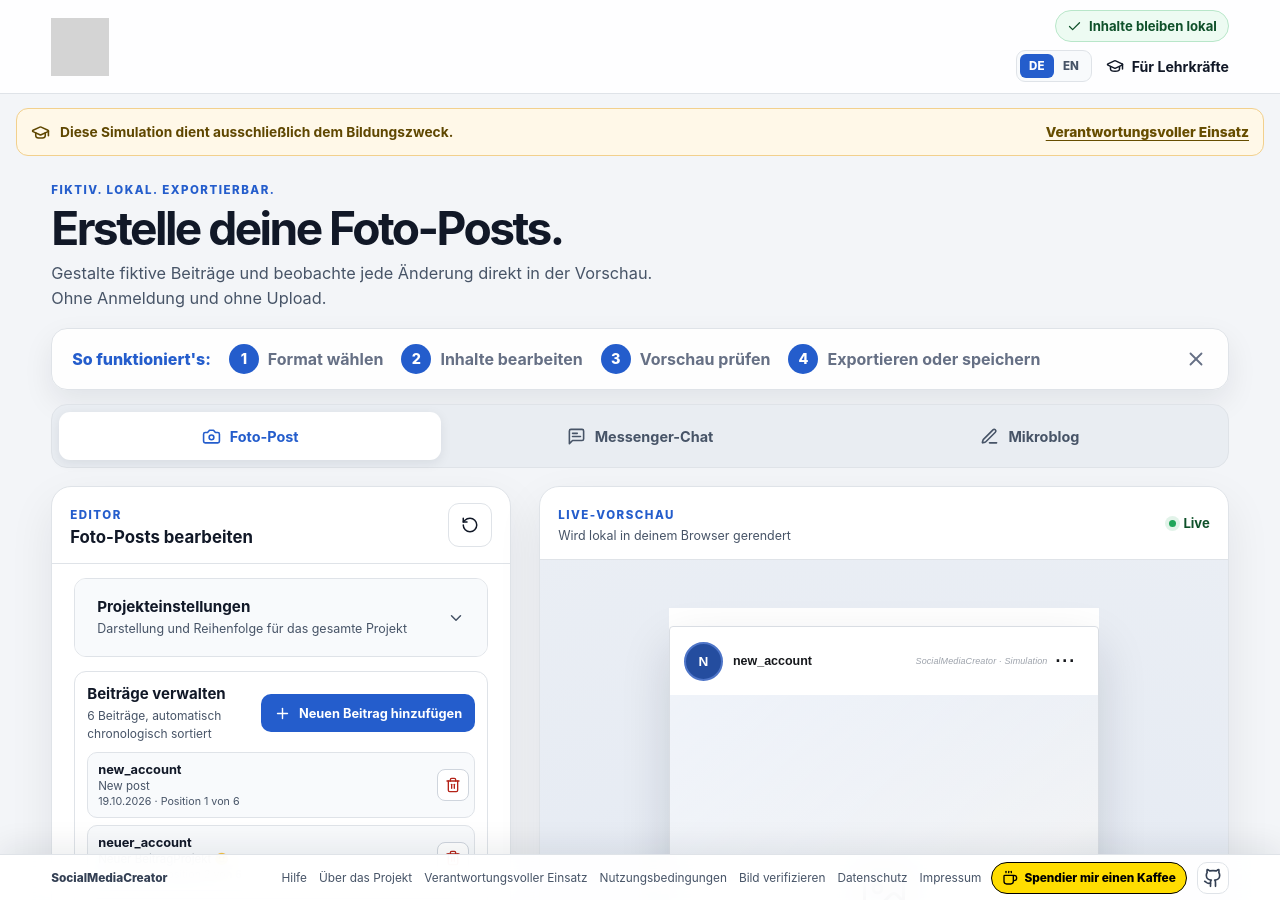
App › opens the teacher information dialog
Click the button "Für Lehrkräfte" at (1167, 66), box x1=1106 y1=49 x2=1229 y2=83
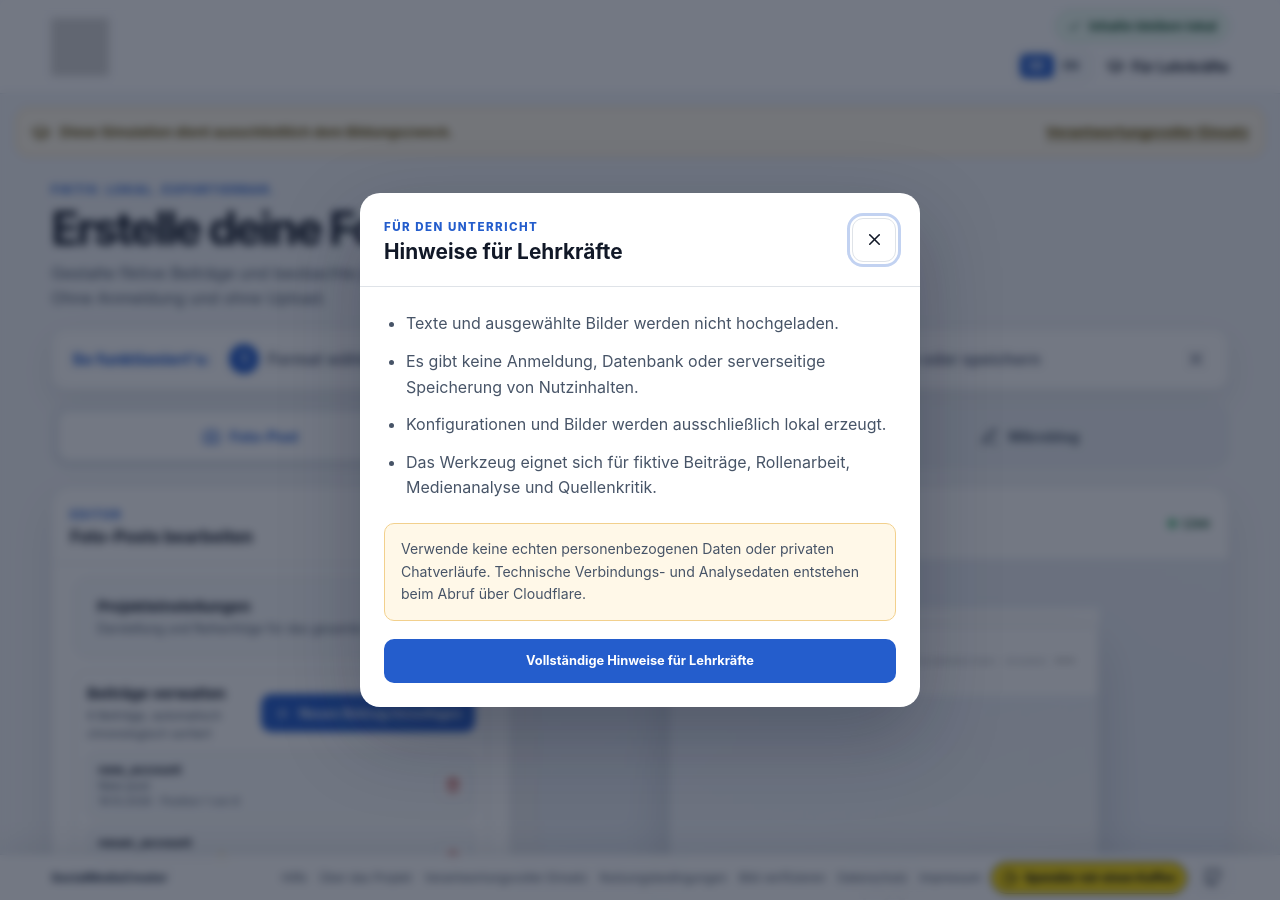
Check: the dialog "Hinweise für Lehrkräfte" is shown
